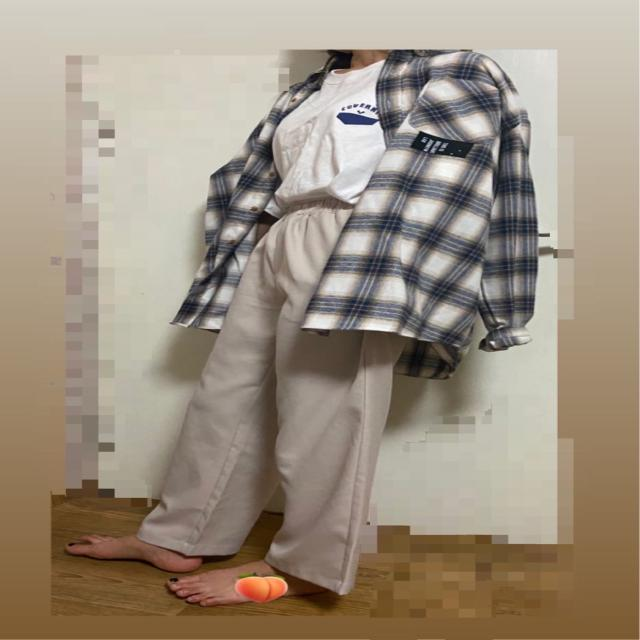cottonpants: (135, 199, 410, 597)
shirt: (167, 50, 540, 382)
